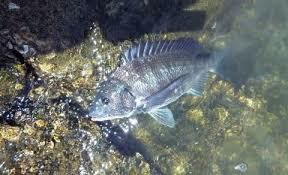kurodai: (88, 33, 242, 129)
